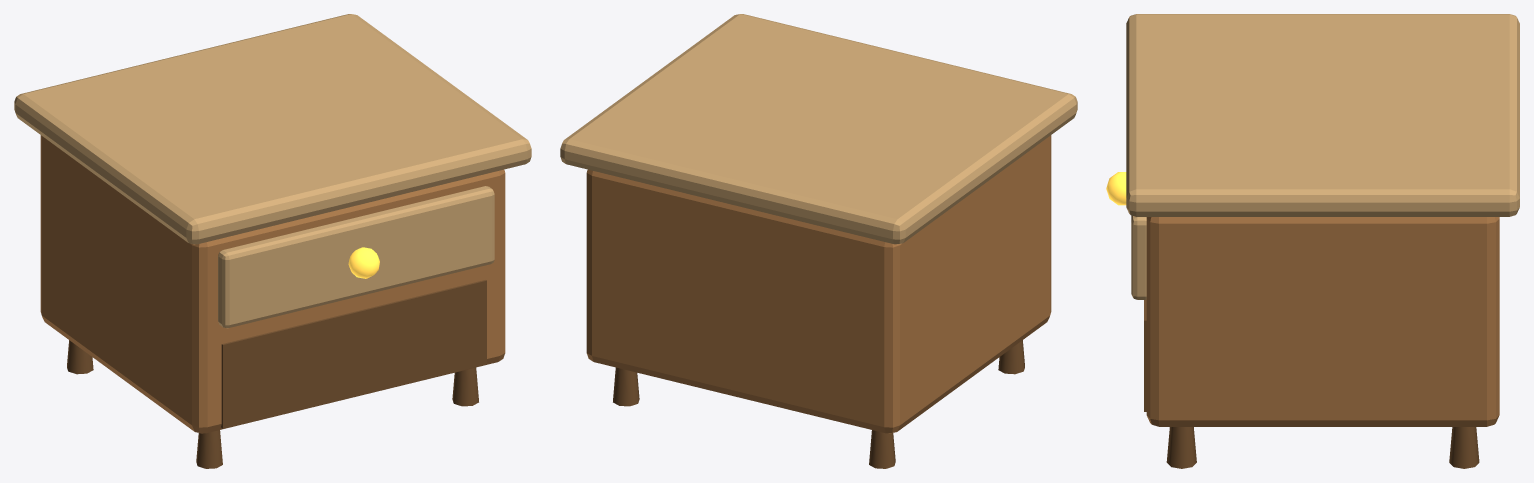
File: criado-mudo.glb
3 views of the same model, side by side, from view 1: azimuth 30°, elevation 25°; view 2: azimuth 150°, elevation 25°; view 3: azimuth 270°, elevation 25° (orthographic). The views are drawn at different scales.
Parts seen in each view (by area): view 1: criado-mudo; view 2: criado-mudo; view 3: criado-mudo.
Part boxes in pixels (left/top/right/bottom): criado-mudo: left=14, top=14, right=531, bottom=468; criado-mudo: left=560, top=14, right=1077, bottom=468; criado-mudo: left=1106, top=14, right=1519, bottom=468.
Size of the model in its own units: 0.86 by 0.64 by 0.82.
